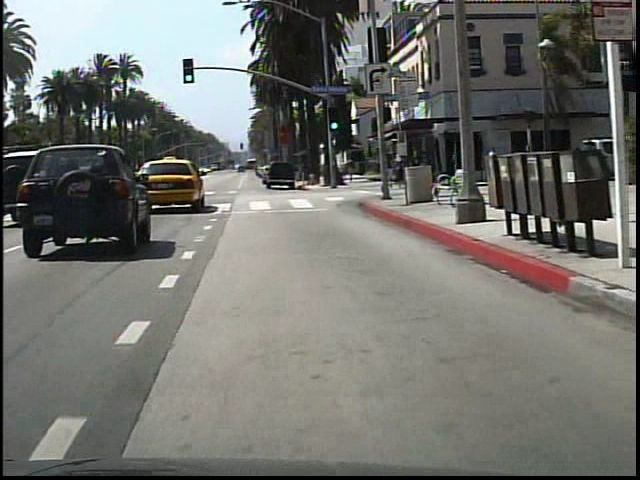person: (484, 145, 505, 189), (386, 150, 402, 195)
